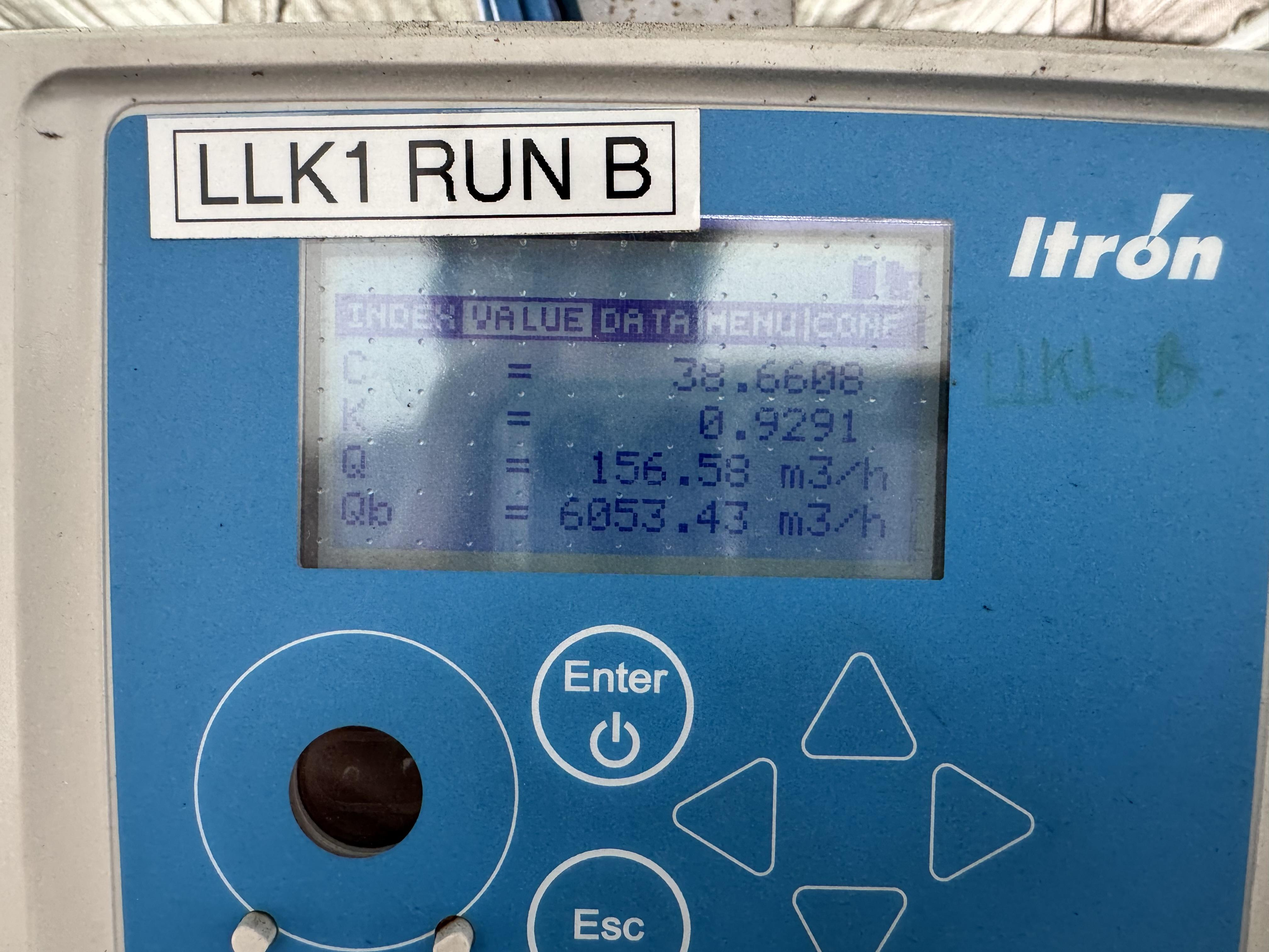digital_screen: (289, 206, 952, 581)
